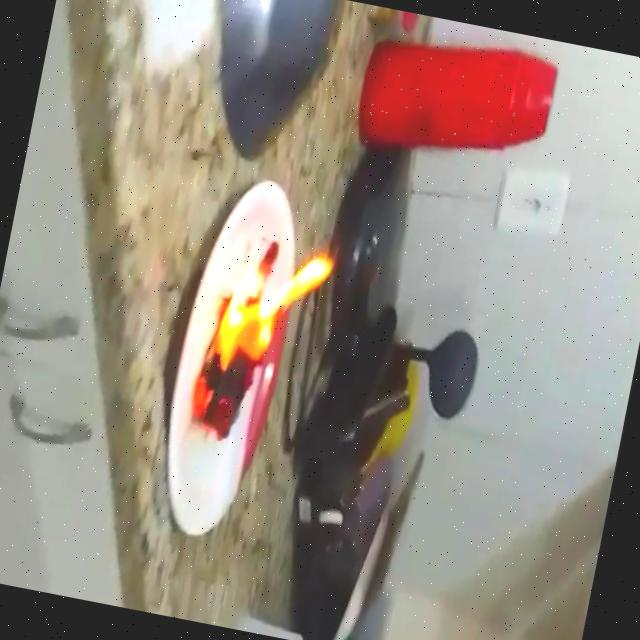fire: (182, 229, 338, 456)
